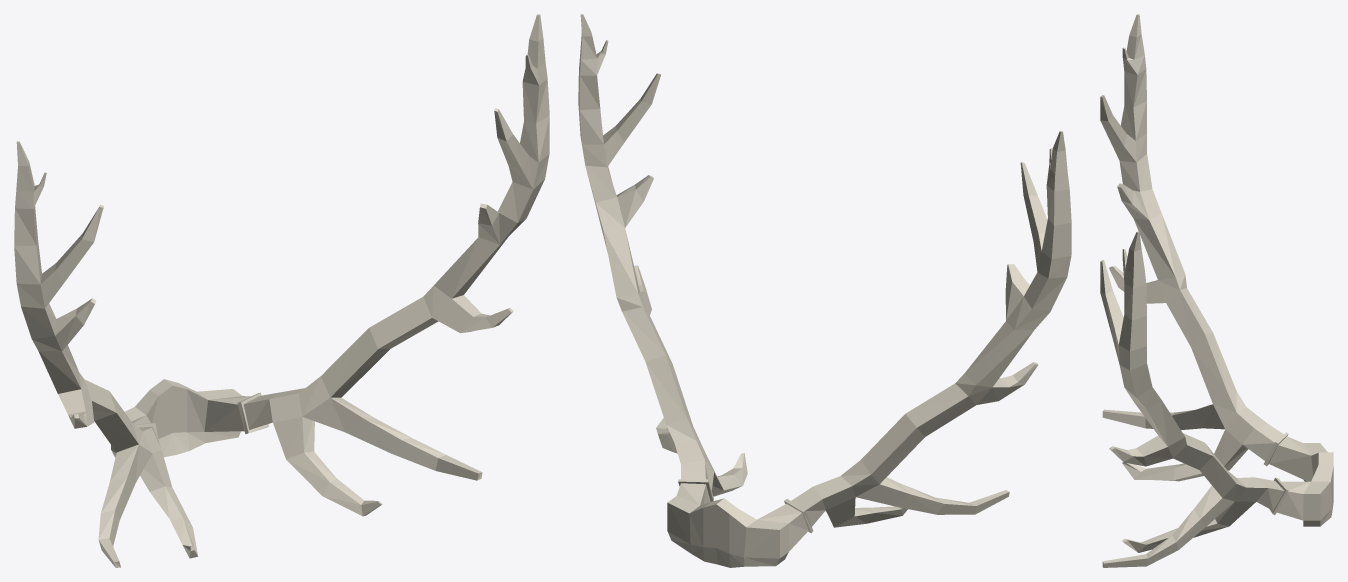
File: 9oH6TjelO-W.glb
The picture shows the model from 3 angles, left to right: view 1: azimuth 30°, elevation 25°; view 2: azimuth 150°, elevation 25°; view 3: azimuth 270°, elevation 25°; orthographic projection. The views are drawn at different scales.
Parts seen in each view (by area): view 1: Node; view 2: Node; view 3: Node.
Part boxes in pixels (<box>): Node: <box>14,14,549,567</box>; Node: <box>578,14,1071,567</box>; Node: <box>1100,14,1333,567</box>.
Bounding box in the file's own units: 1.22 × 1 × 0.5389.
